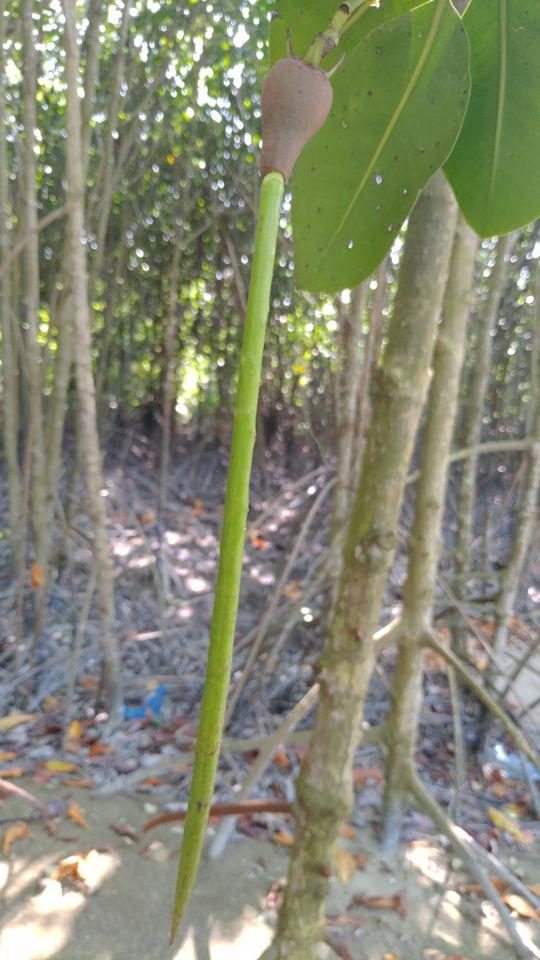setengah matang: (161, 30, 350, 948)
